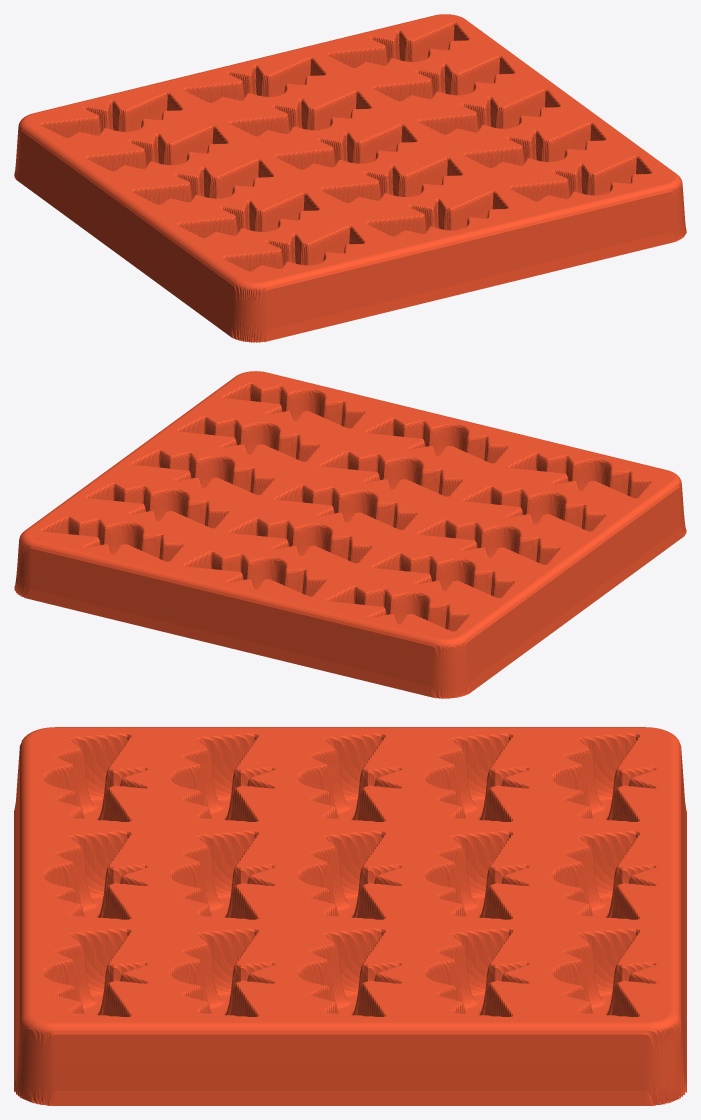
The model's file is mold.glb.
The picture shows the model from 3 angles, top to bottom: view 1: azimuth 30°, elevation 25°; view 2: azimuth 150°, elevation 25°; view 3: azimuth 270°, elevation 25°; orthographic projection. The views are drawn at different scales.
Visible parts, largest first — view 1: geometry_0; view 2: geometry_0; view 3: geometry_0.
Part boxes in pixels (x1,y1,x2,y2): geometry_0: (14,14,686,342); geometry_0: (14,371,686,698); geometry_0: (14,727,686,1105).
Bounding box in the file's own units: 0.1602 × 0.0185 × 0.1477.
